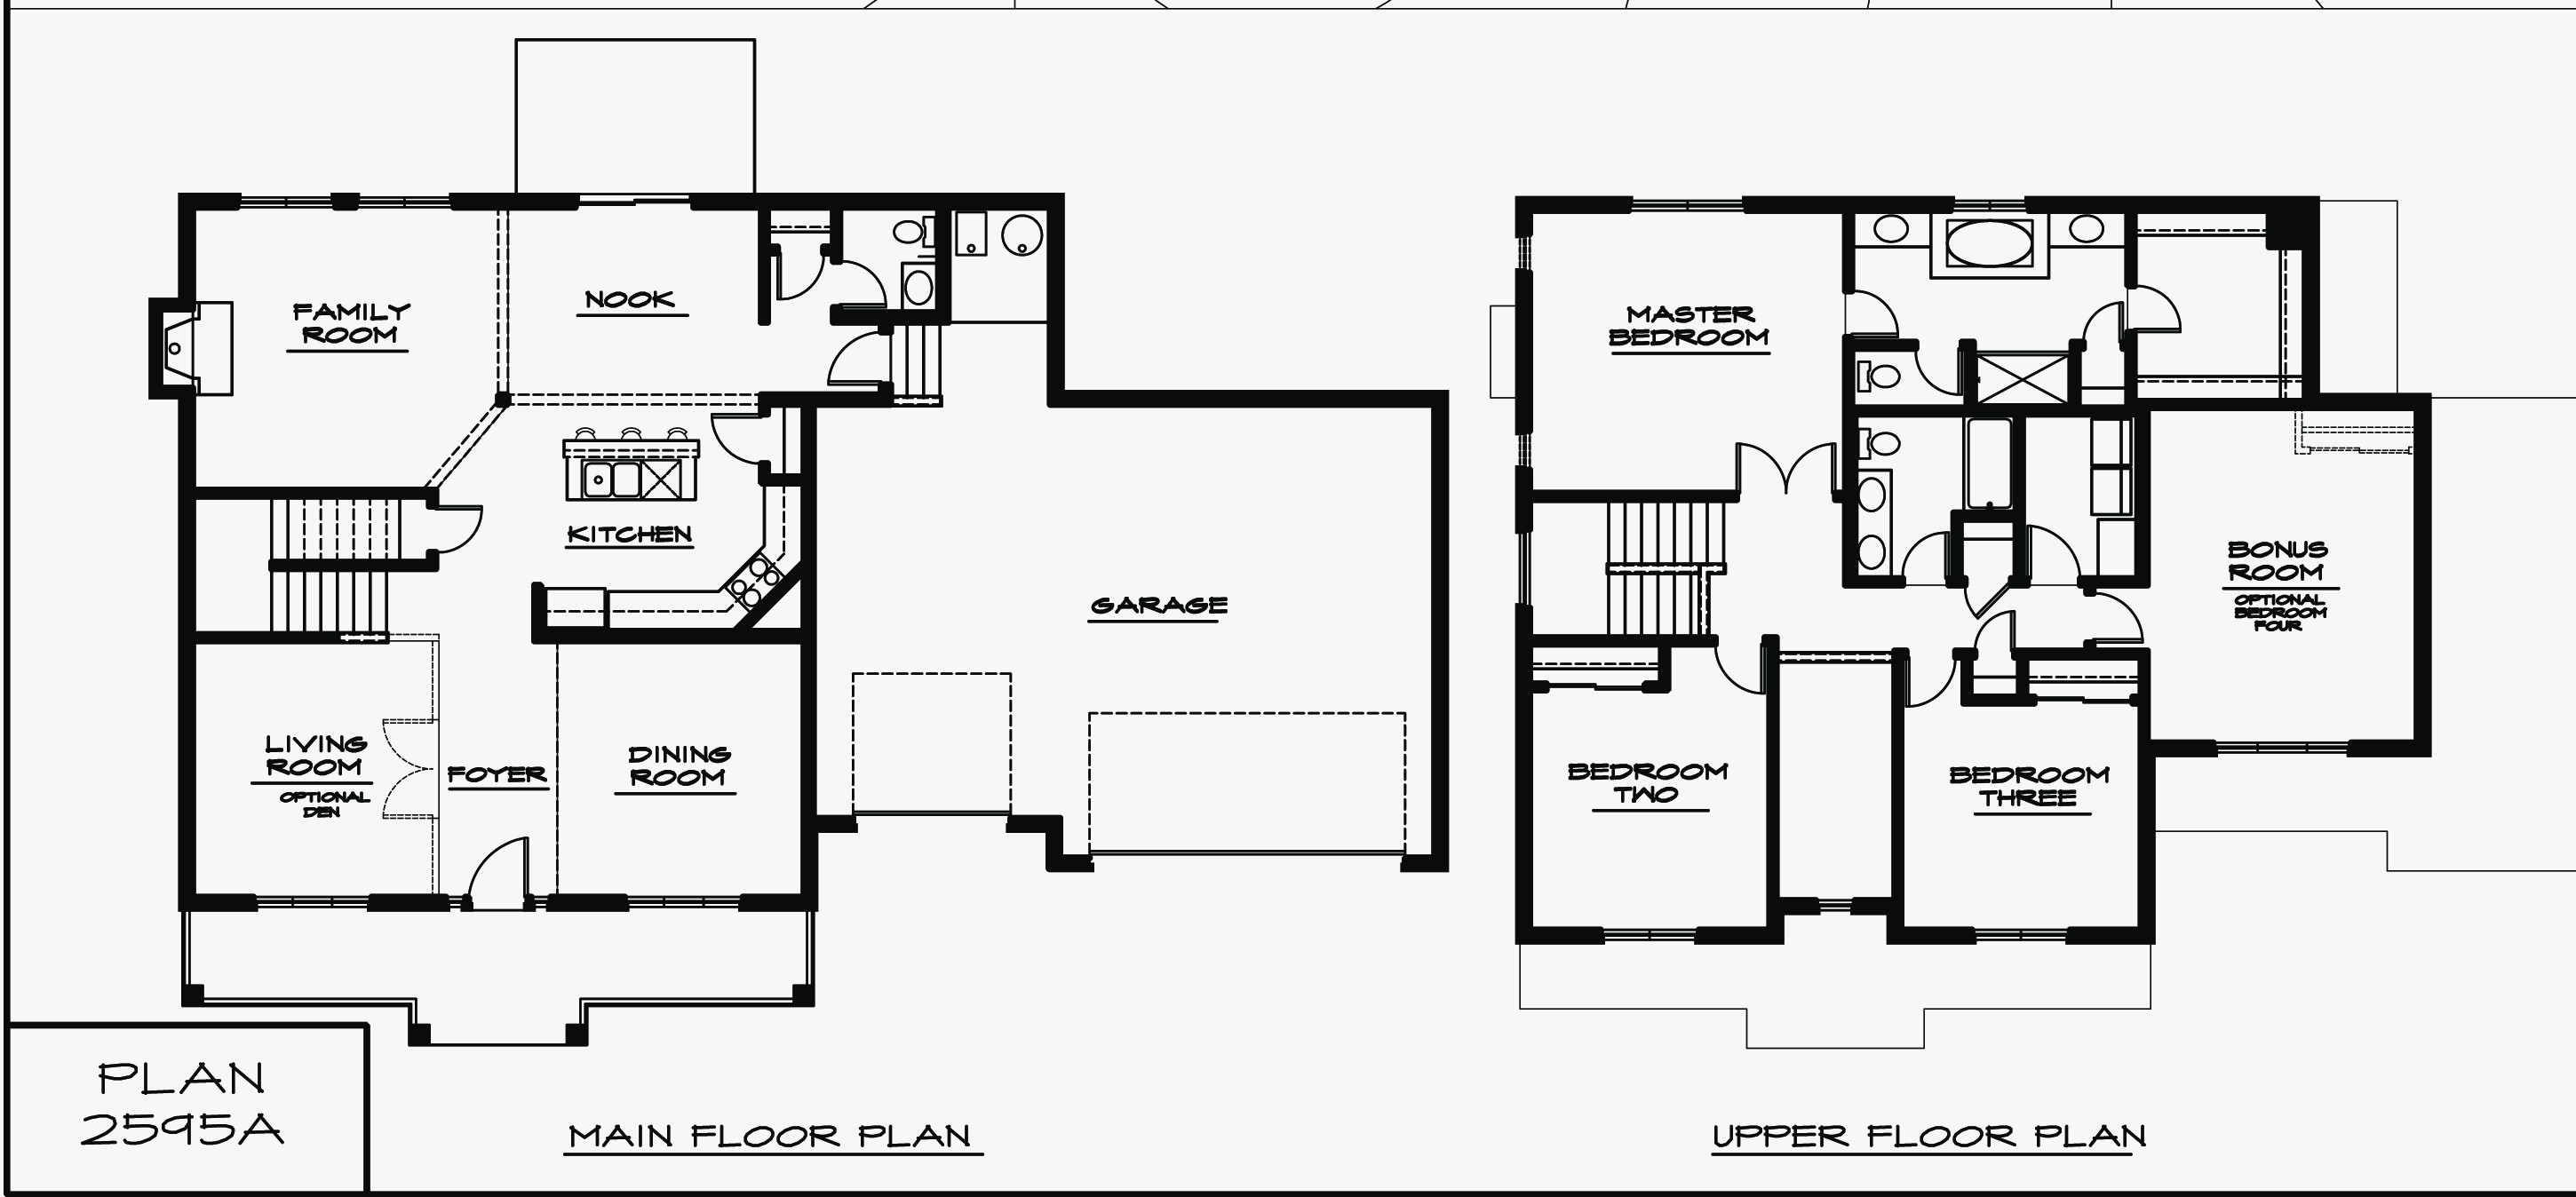door: (1730, 433, 1842, 489), (375, 711, 429, 826), (467, 828, 537, 892), (440, 498, 498, 562), (826, 332, 881, 389), (1712, 647, 1766, 701), (2103, 591, 2155, 647), (1904, 658, 1953, 714), (2027, 521, 2080, 570), (1914, 346, 1963, 399), (2144, 277, 2187, 337), (1861, 284, 1909, 335), (1901, 527, 1950, 575), (706, 412, 756, 460), (1976, 608, 2026, 652), (846, 258, 889, 309), (772, 258, 820, 302), (1947, 591, 2008, 619), (2083, 294, 2124, 335)
